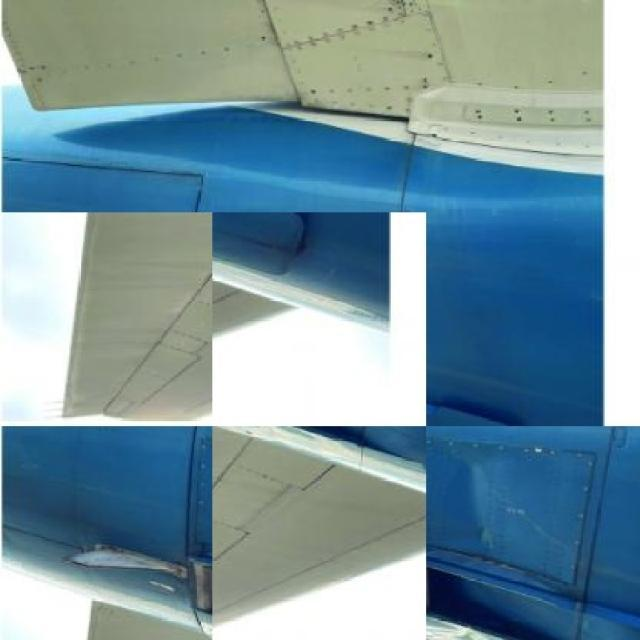dent: (443, 437, 511, 540)
